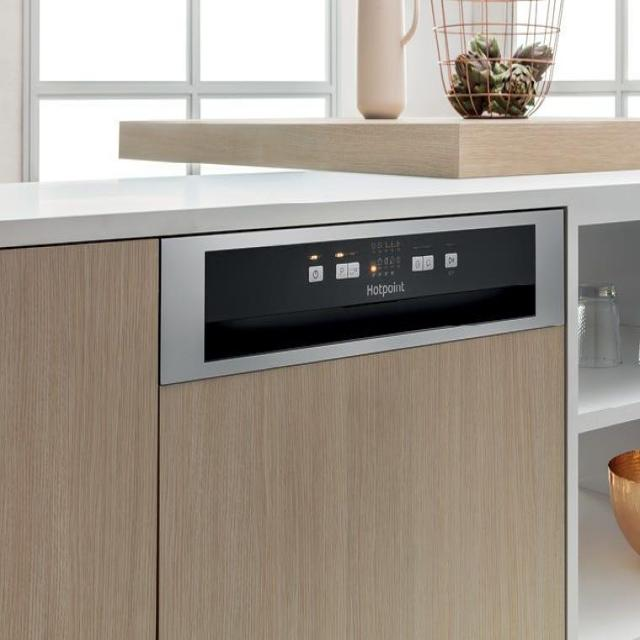dishwasher: (137, 198, 571, 640)
